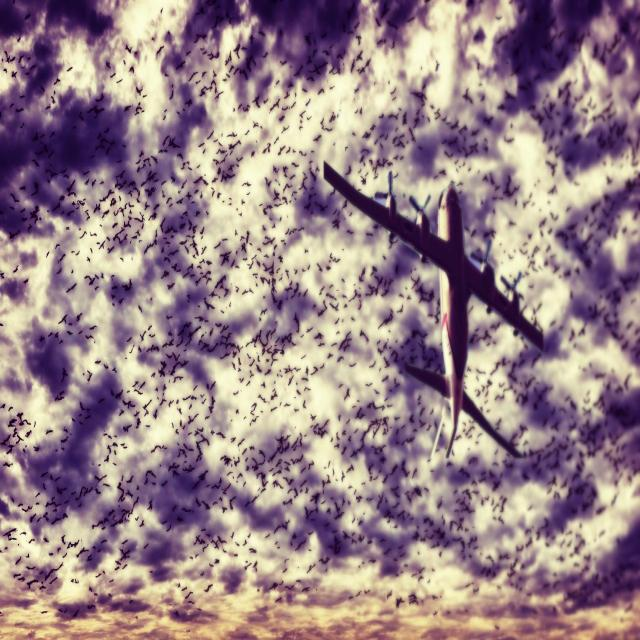airplane: (323, 159, 544, 463)
